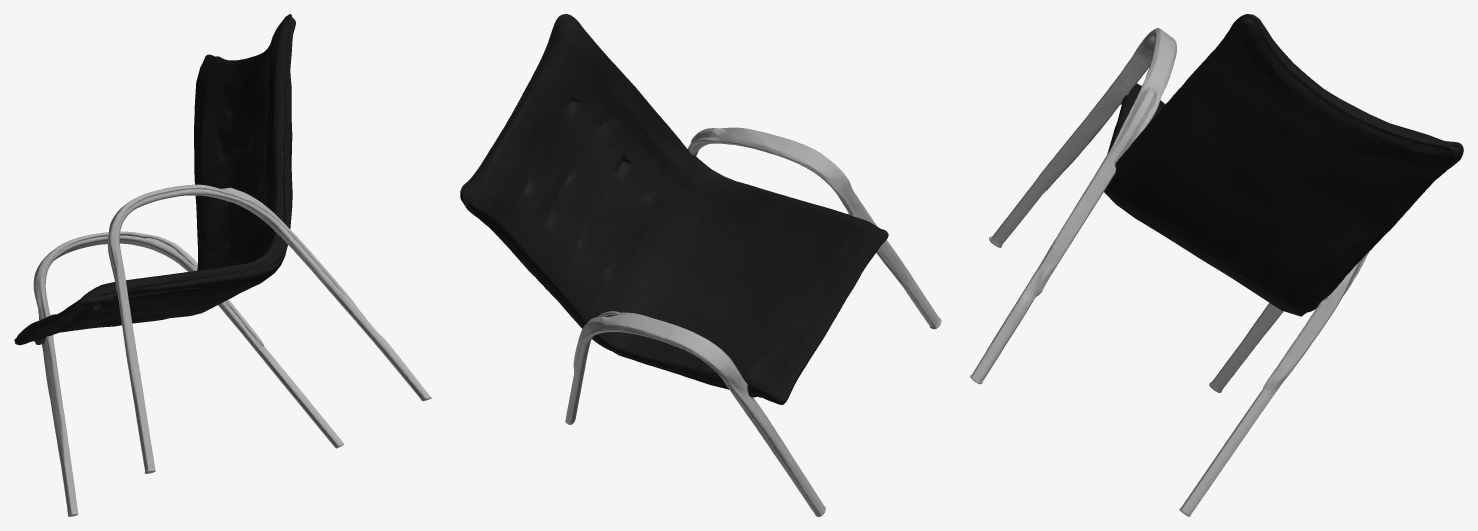
File: pixal3d.glb
The picture shows the model from 3 angles, left to right: view 1: azimuth 30°, elevation 25°; view 2: azimuth 150°, elevation 25°; view 3: azimuth 270°, elevation 25°; orthographic projection. The views are drawn at different scales.
Visible parts, largest first — view 1: world; view 2: world; view 3: world.
Boxes of the visible parts, bbox=[...] form: world: bbox=[14, 14, 431, 516]; world: bbox=[460, 14, 941, 516]; world: bbox=[970, 14, 1463, 516].
Bounding box in the file's own units: 0.6226 × 0.9045 × 0.7933.
1 material, 1 textured.
